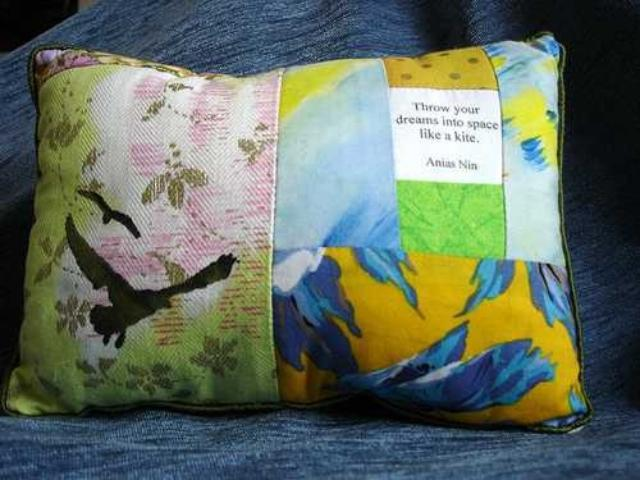pillow: (0, 30, 592, 433)
